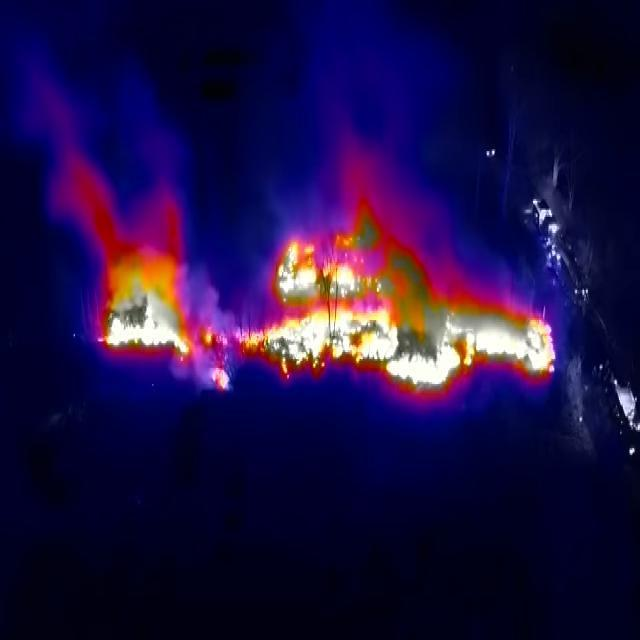fire: (204, 225, 558, 397), (94, 230, 193, 365)
